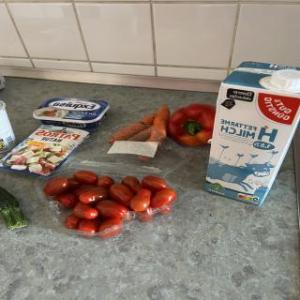bell_pepper: (169, 100, 218, 148)
carrot: (136, 103, 172, 161), (108, 111, 160, 147)
tomato: (93, 199, 129, 219), (108, 184, 136, 208), (80, 185, 112, 205), (42, 176, 70, 198), (96, 217, 124, 239), (149, 188, 177, 209), (128, 189, 154, 211), (76, 215, 102, 236), (141, 174, 171, 192), (120, 176, 144, 196), (70, 204, 98, 220), (71, 169, 99, 184), (95, 176, 115, 189)
zucchini: (0, 185, 30, 233)
